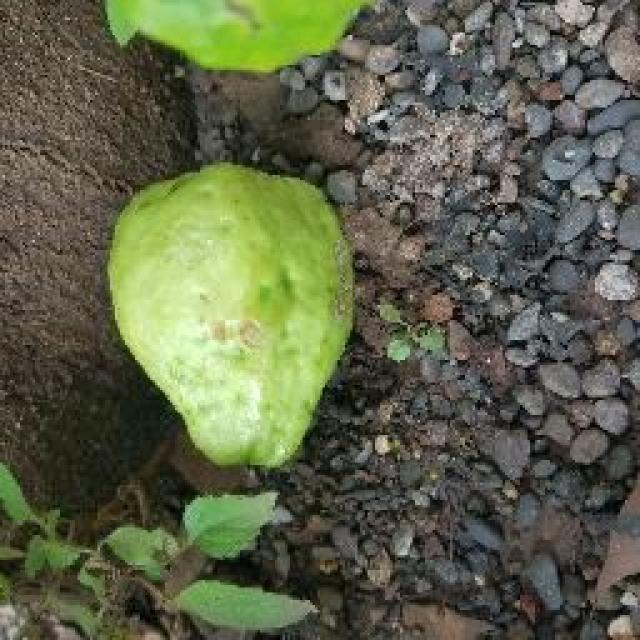Good_Guava: (105, 162, 352, 472)
